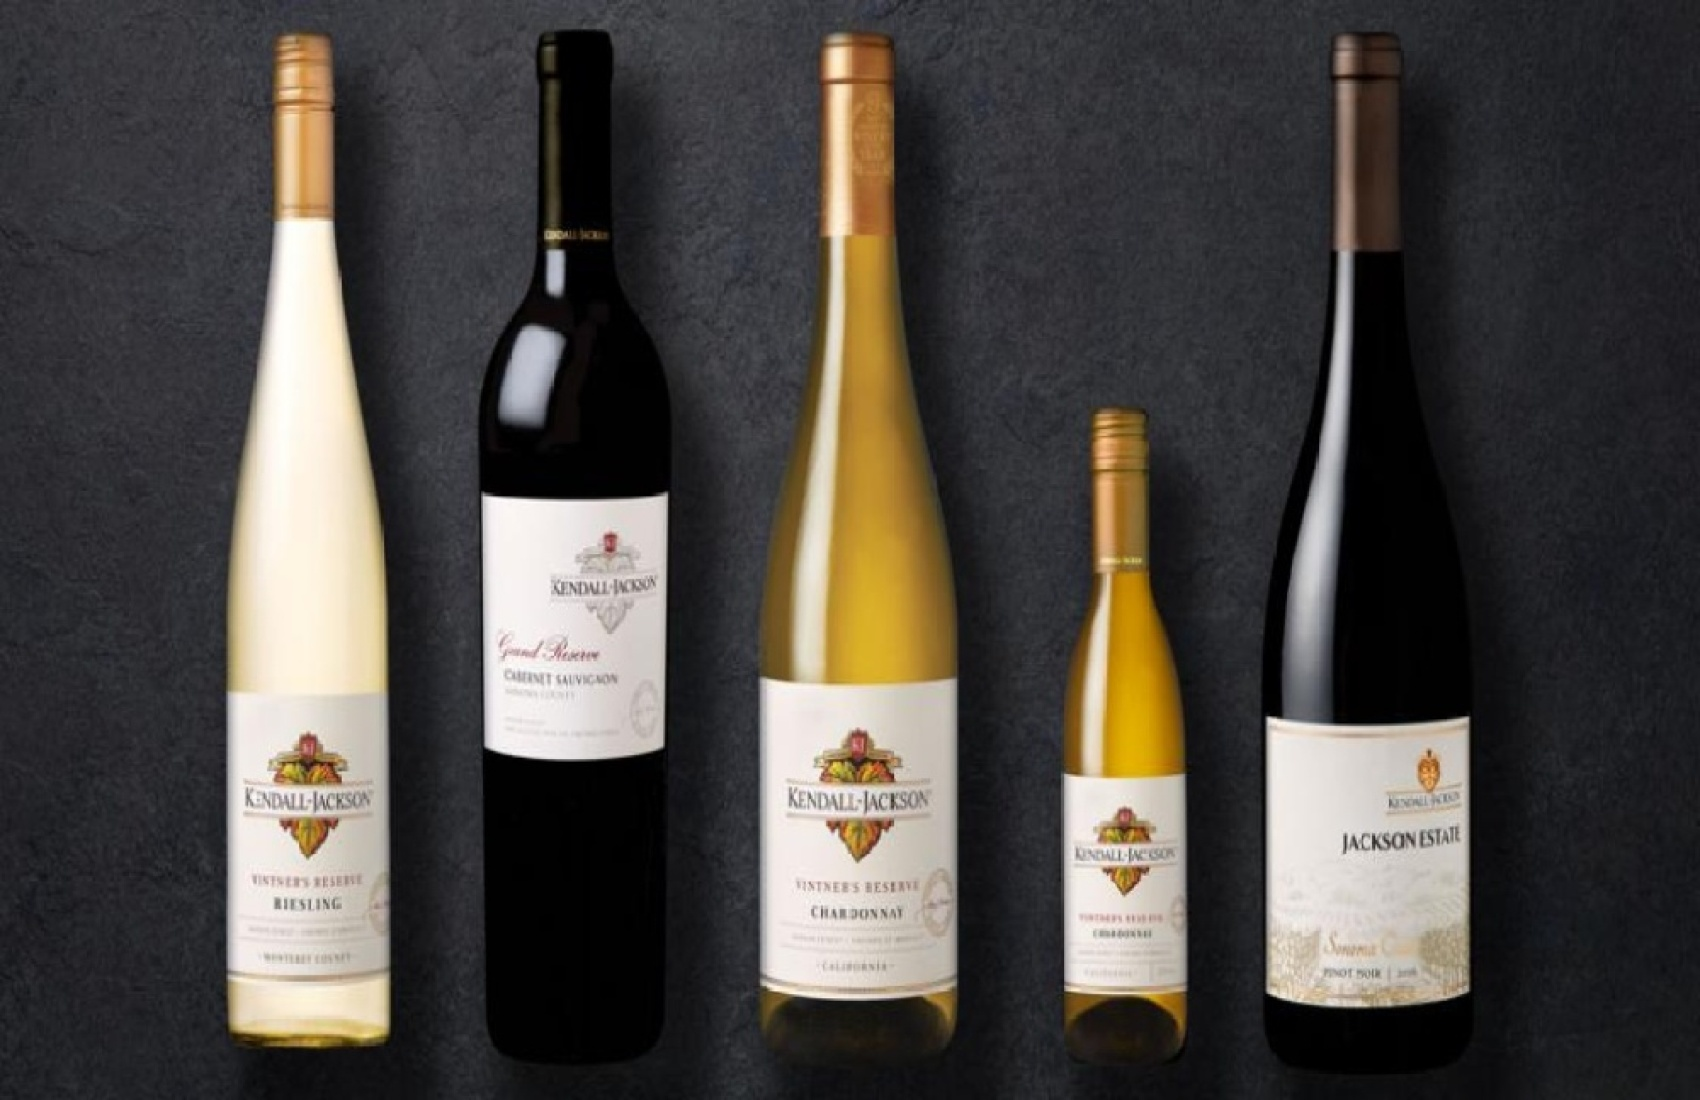wine: (761, 52, 964, 1050), (1255, 47, 1458, 1045), (476, 47, 679, 1045), (228, 55, 392, 1041), (1056, 403, 1183, 1055)
